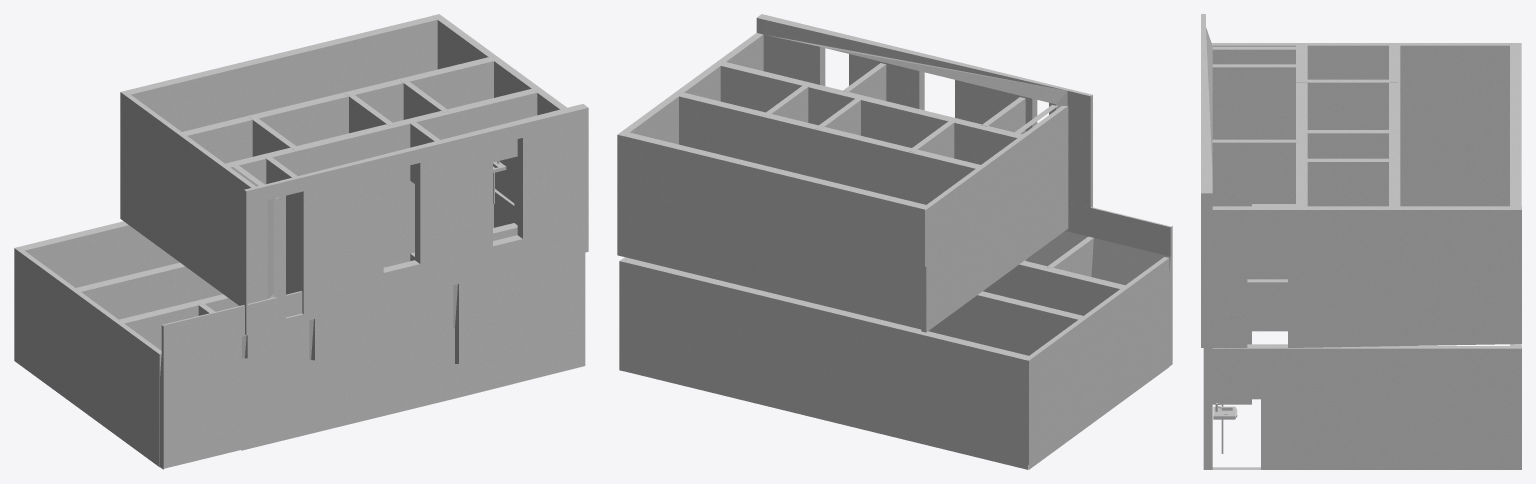
The model's file is toilettes.obj.
The picture shows the model from 3 angles, left to right: view 1: azimuth 30°, elevation 25°; view 2: azimuth 150°, elevation 25°; view 3: azimuth 270°, elevation 25°; orthographic projection. The views are drawn at different scales.
Visible parts, largest first — view 1: murs_toilettes_couloirs; view 2: murs_toilettes_couloirs; view 3: murs_toilettes_couloirs.
Boxes of the visible parts, <box> form: murs_toilettes_couloirs: <box>14,14,588,469</box>; murs_toilettes_couloirs: <box>617,14,1172,469</box>; murs_toilettes_couloirs: <box>1201,14,1521,469</box>.
Size of the model in its own units: 33.54 by 19.97 by 20.4.
1 material, 1 textured.
